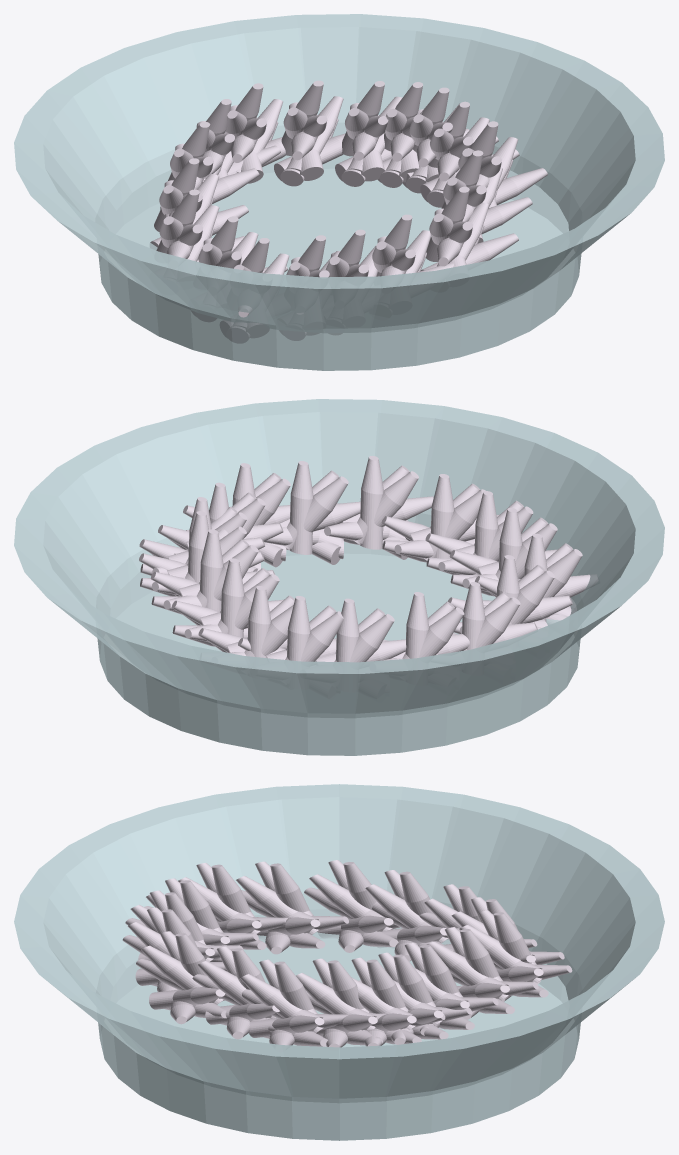
File: cristal2.glb
3 views of the same model, one above another, from view 1: azimuth 30°, elevation 25°; view 2: azimuth 150°, elevation 25°; view 3: azimuth 270°, elevation 25° (orthographic).
Parts seen in each view (by area): view 1: Cilindro, Cilindro.059; view 2: Cilindro, Cilindro.059; view 3: Cilindro, Cilindro.059.
Part boxes in pixels (x1,y1,x2,y2): Cilindro: (14, 14, 664, 370); Cilindro.059: (150, 80, 547, 343); Cilindro: (14, 399, 664, 755); Cilindro.059: (139, 456, 598, 662); Cilindro: (14, 784, 664, 1140); Cilindro.059: (122, 860, 572, 1047).
Bounding box in the file's own units: 2.72 × 0.637 × 2.72.
